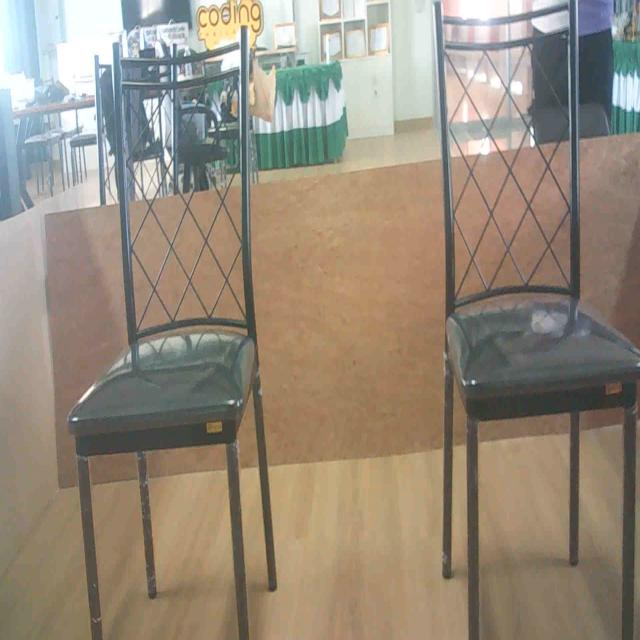empty: (432, 15, 640, 428), (66, 15, 253, 461)
